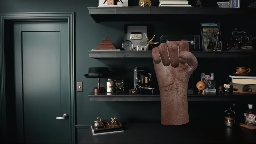Pugno: (148, 38, 200, 90)
